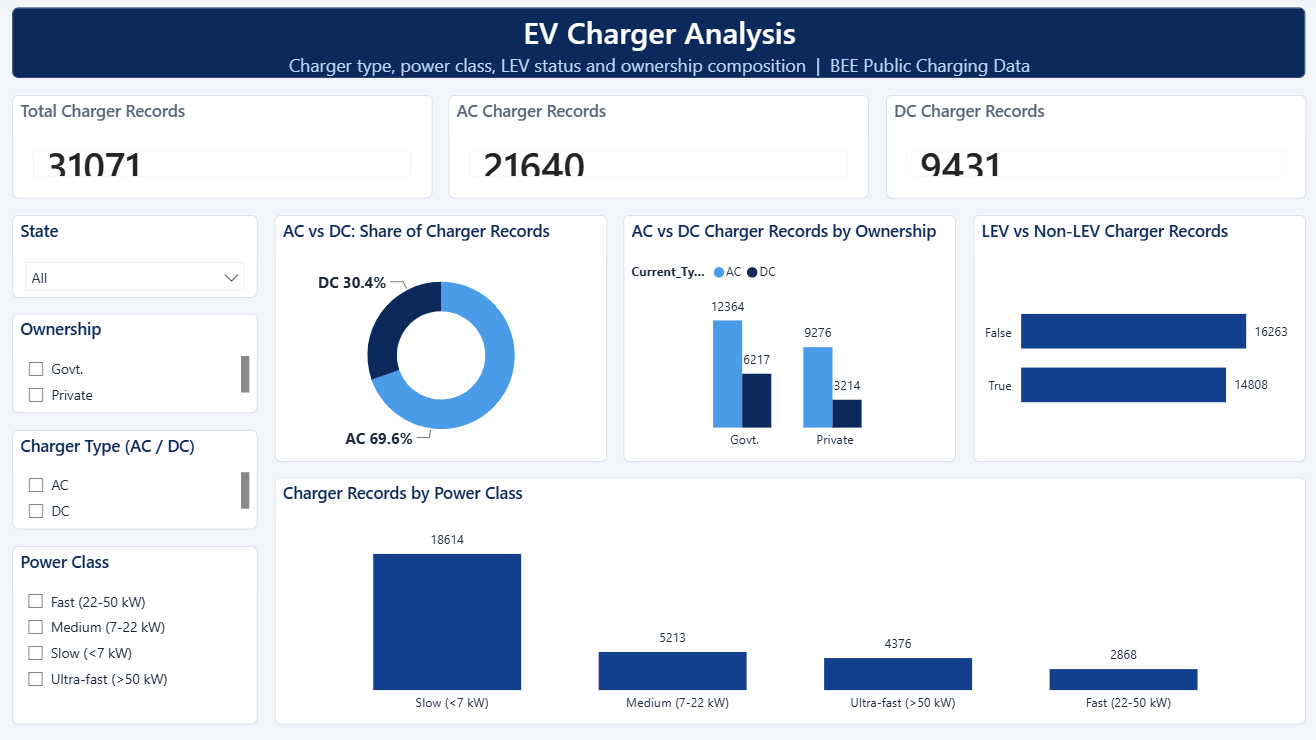

What the dashboard file says about the page in this screenshot:
{"tool":"powerbi","page":{"name":"Charger Analysis","canvas":[1280,720],"ordinal":1},"visuals":[{"type":"textbox","title":"EV Charger Analysis","box":[16,12,1248,68],"z":0},{"type":"cardVisual","title":"Total Charger Records","fields":{"Data":["CountNonNull(bee_ev_clean.CPO)"]},"box":[16,96,405.3,100],"z":1000},{"type":"cardVisual","title":"AC Charger Records","fields":{"Data":["CountNonNull(bee_ev_clean.CPO)"]},"box":[437.3,96,405.3,100],"z":2000},{"type":"cardVisual","title":"DC Charger Records","fields":{"Data":["CountNonNull(bee_ev_clean.CPO)"]},"box":[858.7,96,405.3,100],"z":3000},{"type":"donutChart","title":"AC vs DC: Share of Charger Records","fields":{"Category":["bee_ev_clean.Current_Type"],"Y":["CountNonNull(bee_ev_clean.CPO)"]},"box":[268.8,212,321.1,238],"z":4000},{"type":"clusteredColumnChart","title":"AC vs DC Charger Records by Ownership","fields":{"Category":["bee_ev_clean.Ownership"],"Y":["CountNonNull(bee_ev_clean.CPO)"],"Series":["bee_ev_clean.Current_Type"]},"box":[605.9,212,321.1,238],"z":5000},{"type":"clusteredBarChart","title":"LEV vs Non-LEV Charger Records","fields":{"Category":["bee_ev_clean.Is_LEV"],"Y":["CountNonNull(bee_ev_clean.CPO)"]},"box":[942.9,212,321.1,238],"z":6000},{"type":"clusteredColumnChart","title":"Charger Records by Power Class","fields":{"Category":["bee_ev_clean.Power_Class"],"Y":["CountNonNull(bee_ev_clean.CPO)"]},"box":[268.8,466,995.2,238],"z":7000},{"type":"slicer","title":"State","fields":{"Values":["bee_ev_clean.State"]},"box":[16,212,236.8,80],"z":8000},{"type":"slicer","title":"Ownership","fields":{"Values":["bee_ev_clean.Ownership"]},"box":[16,308,236.8,96],"z":9000},{"type":"slicer","title":"Charger Type (AC / DC)","fields":{"Values":["bee_ev_clean.Current_Type"]},"box":[16,420,236.8,96],"z":10000},{"type":"slicer","title":"Power Class","fields":{"Values":["bee_ev_clean.Power_Class"]},"box":[16,532,236.8,172],"z":11000}]}

Visuals, with their boxes in screenshot pixels (x1, y1, x2, y2), scaled from the page's 1280x720 canvas onto the 1316x740 screenshot:
"EV Charger Analysis" textbox: detection(16, 12, 1300, 82)
"Total Charger Records" cardVisual: detection(16, 99, 433, 201)
"AC Charger Records" cardVisual: detection(450, 99, 866, 201)
"DC Charger Records" cardVisual: detection(883, 99, 1300, 201)
"AC vs DC: Share of Charger Records" donutChart: detection(276, 218, 606, 462)
"AC vs DC Charger Records by Ownership" clusteredColumnChart: detection(623, 218, 953, 462)
"LEV vs Non-LEV Charger Records" clusteredBarChart: detection(969, 218, 1300, 462)
"Charger Records by Power Class" clusteredColumnChart: detection(276, 479, 1300, 724)
"State" slicer: detection(16, 218, 260, 300)
"Ownership" slicer: detection(16, 317, 260, 415)
"Charger Type (AC / DC)" slicer: detection(16, 432, 260, 530)
"Power Class" slicer: detection(16, 547, 260, 724)
